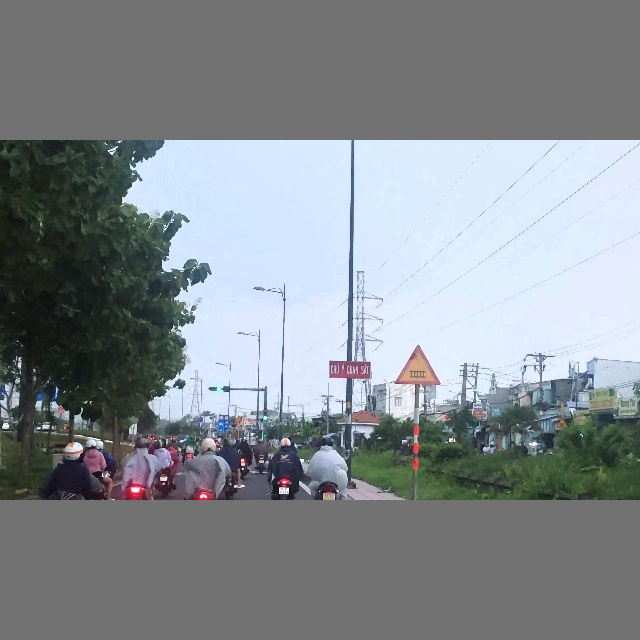I.407a: (198, 422, 203, 428)
W.210: (396, 344, 441, 384)
